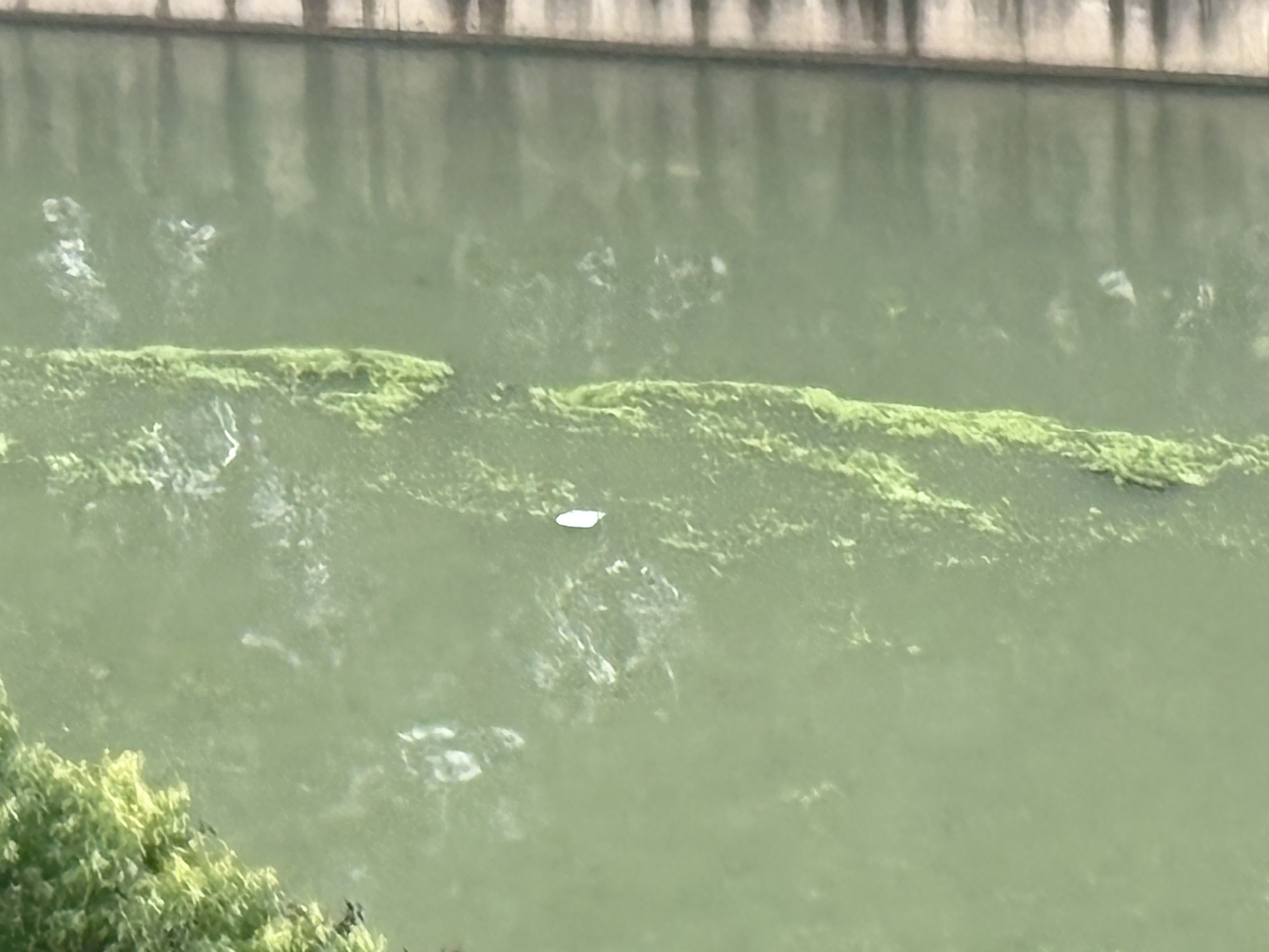Other: (546, 388, 1215, 503), (31, 347, 436, 426)
Plastic wastes: (551, 508, 612, 537)
